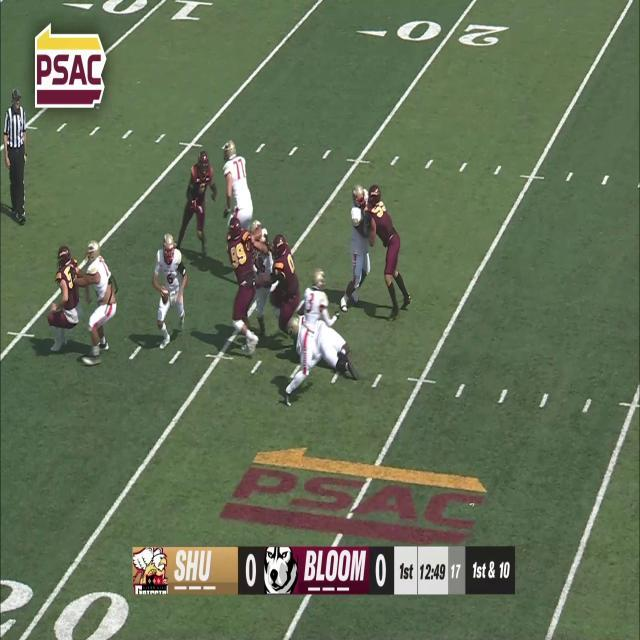football: (160, 288, 170, 305)
